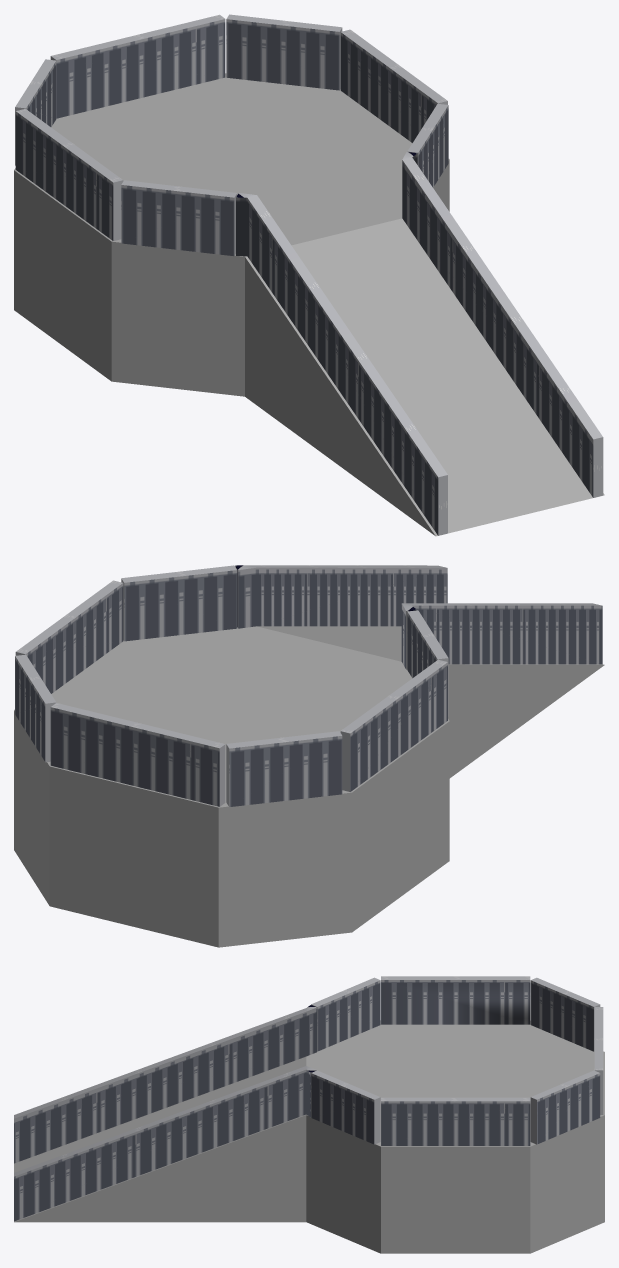
File: Operator_Platform.fbx
The picture shows the model from 3 angles, top to bottom: view 1: azimuth 30°, elevation 25°; view 2: azimuth 150°, elevation 25°; view 3: azimuth 270°, elevation 25°; orthographic projection. The views are drawn at different scales.
Parts seen in each view (by area): view 1: Operator_Platform; view 2: Operator_Platform; view 3: Operator_Platform.
Boxes of the visible parts, box(x1,y1,x2,y2) form: Operator_Platform: box(14, 14, 604, 536); Operator_Platform: box(14, 565, 604, 947); Operator_Platform: box(14, 976, 604, 1253).
Size of the model in its own units: 561 by 315 by 1110.
